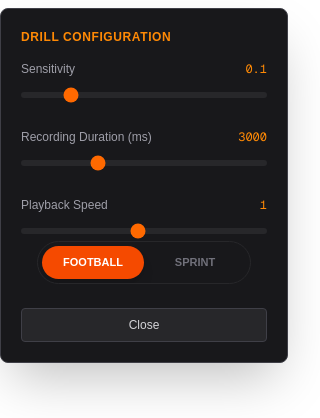
SettingsComponent - Unit Tests › powinien aktualizować treshold (Sensitivity) i widok po zmianie suwaka
This screenshot has width=320, height=418.
Set the slider below "0.1" to "0.25": [142, 95] box [21,92,267,98]
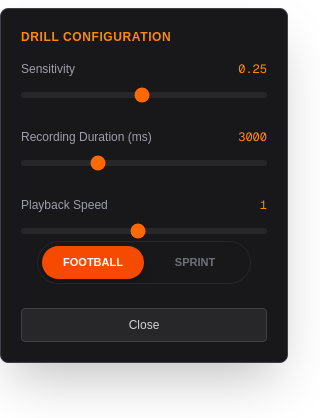
Check: the text "0.25" is shown, box [238,61,267,77]
